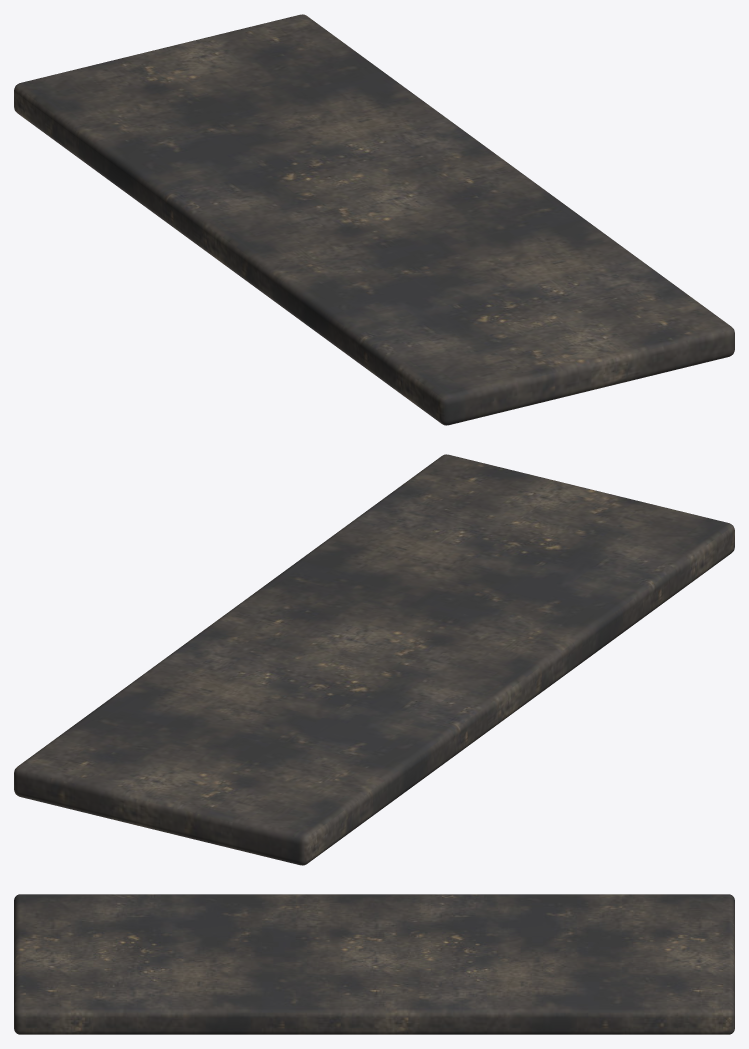
File: Mattress.fbx
The picture shows the model from 3 angles, top to bottom: view 1: azimuth 30°, elevation 25°; view 2: azimuth 150°, elevation 25°; view 3: azimuth 270°, elevation 25°; orthographic projection. The views are drawn at different scales.
Parts seen in each view (by area): view 1: Mattress_Mattress_0.001; view 2: Mattress_Mattress_0.001; view 3: Mattress_Mattress_0.001.
Part boxes in pixels (bbox=[...]): Mattress_Mattress_0.001: bbox=[14, 14, 734, 425]; Mattress_Mattress_0.001: bbox=[14, 454, 734, 865]; Mattress_Mattress_0.001: bbox=[14, 894, 734, 1034].
Size of the model in its own units: 87.59 by 8.67 by 223.
Materials: 1 (1 with a texture image).
